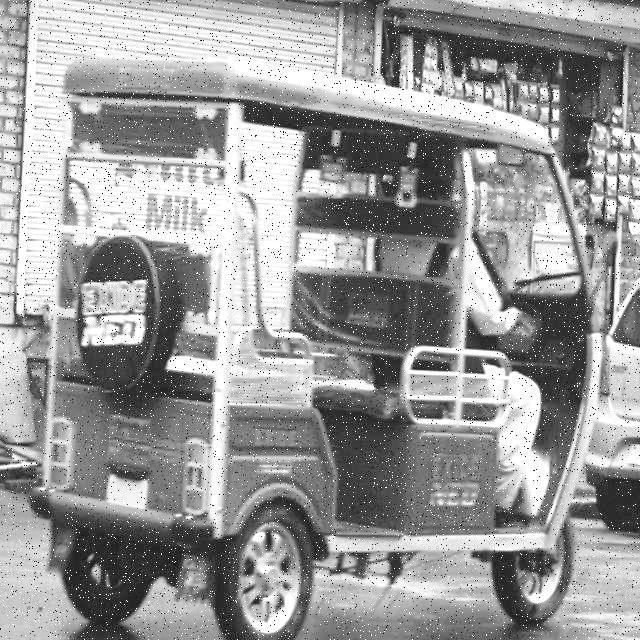Toto: (45, 53, 587, 639)
